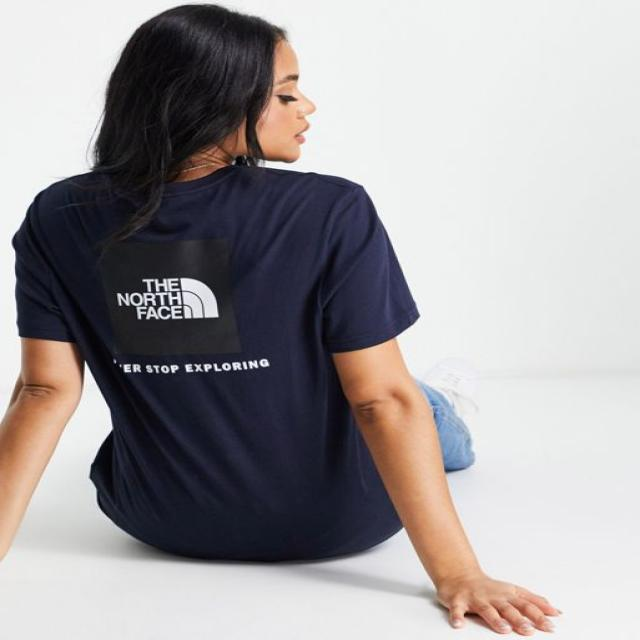tshirt: (12, 161, 426, 561)
